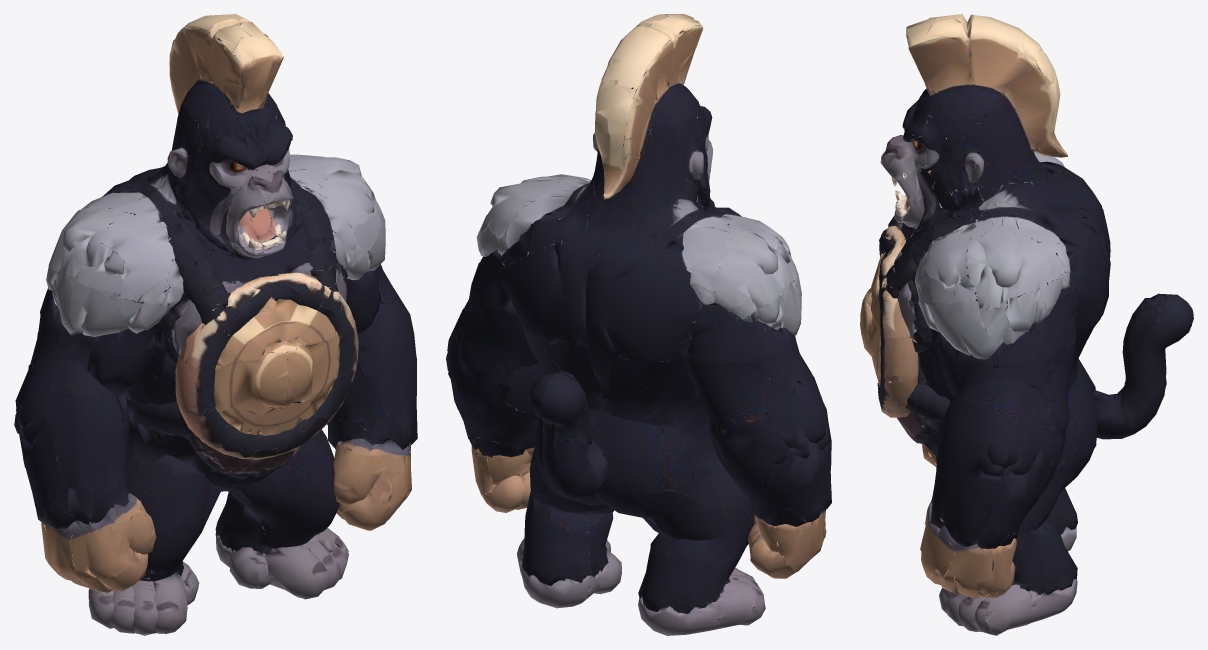
The picture shows the model from 3 angles, left to right: view 1: azimuth 30°, elevation 25°; view 2: azimuth 150°, elevation 25°; view 3: azimuth 270°, elevation 25°; orthographic projection. The views are drawn at different scales.
Parts seen in each view (by area): view 1: Mesh_0; view 2: Mesh_0; view 3: Mesh_0.
Part boxes in pixels (x1,y1,x2,y2): Mesh_0: (14, 14, 417, 635); Mesh_0: (446, 14, 831, 635); Mesh_0: (860, 14, 1193, 635).
Bounding box in the file's own units: 1.34 × 1.94 × 1.04.
1 material, 1 textured.
